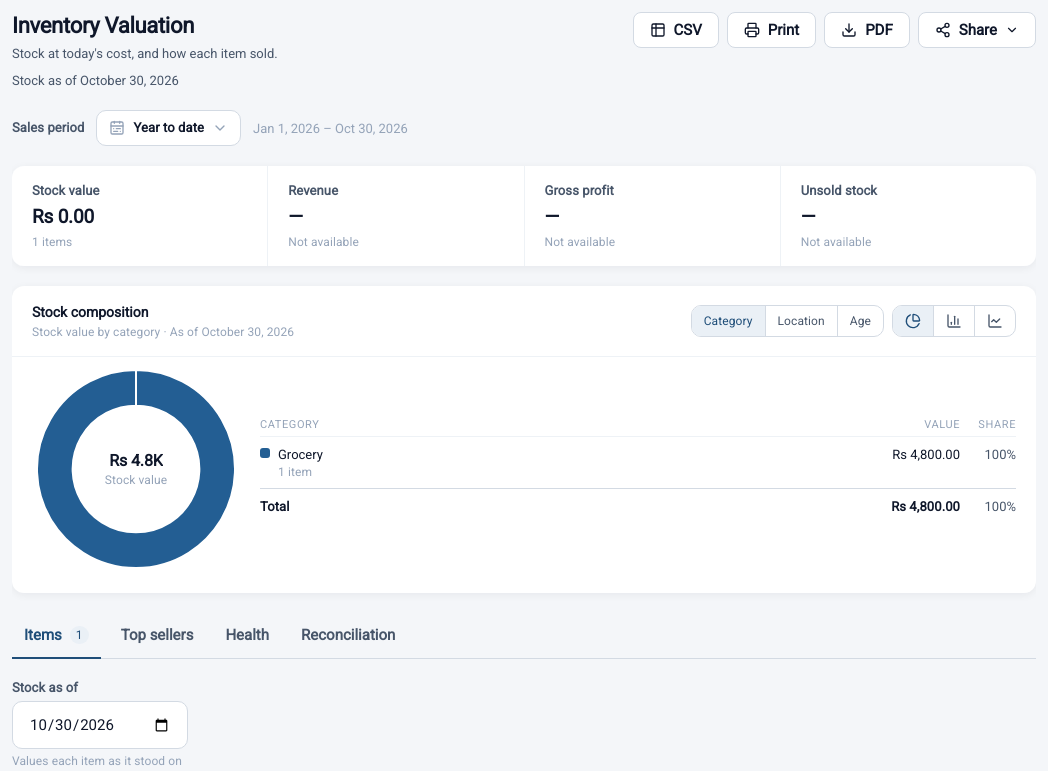
Scenario: InventoryValuationPage — stock composition › cuts the stock by location from inventory health, asked for only then
The image size is (1048, 771).
Expected: the table named "Stock value by category" is shown, [260,414,1016,524]
Click the button "Location" at (801, 321), box [764,306,837,336]
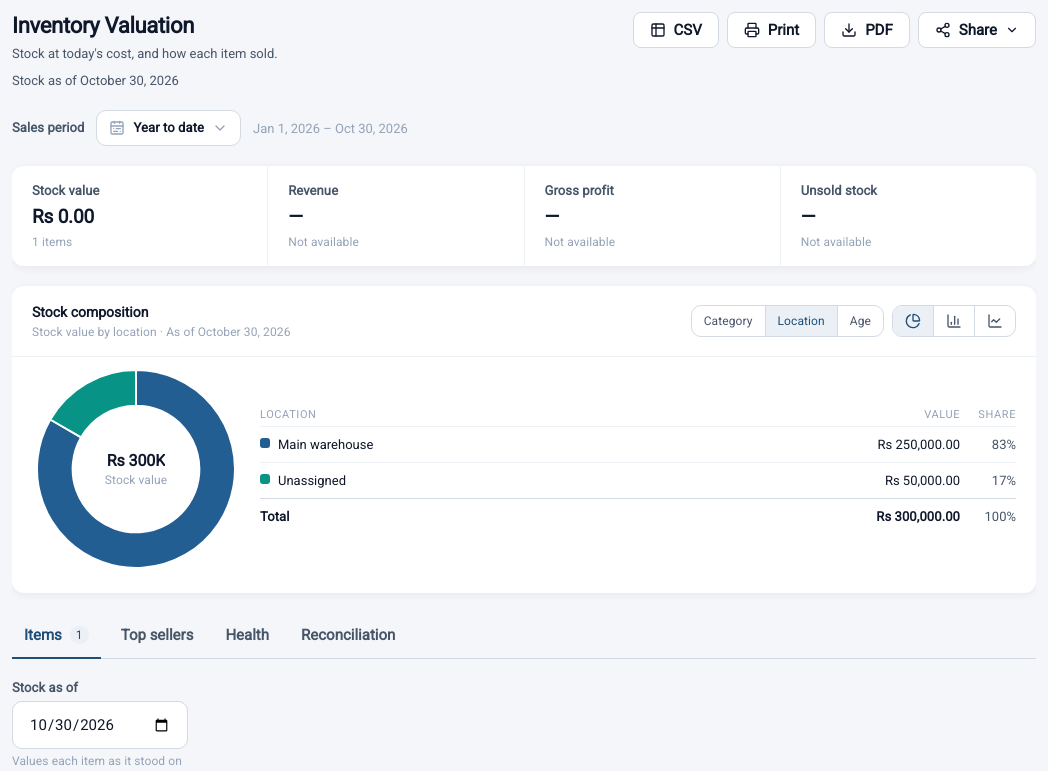
Expected: the text "Main warehouse" is shown, [278,435,373,454]
